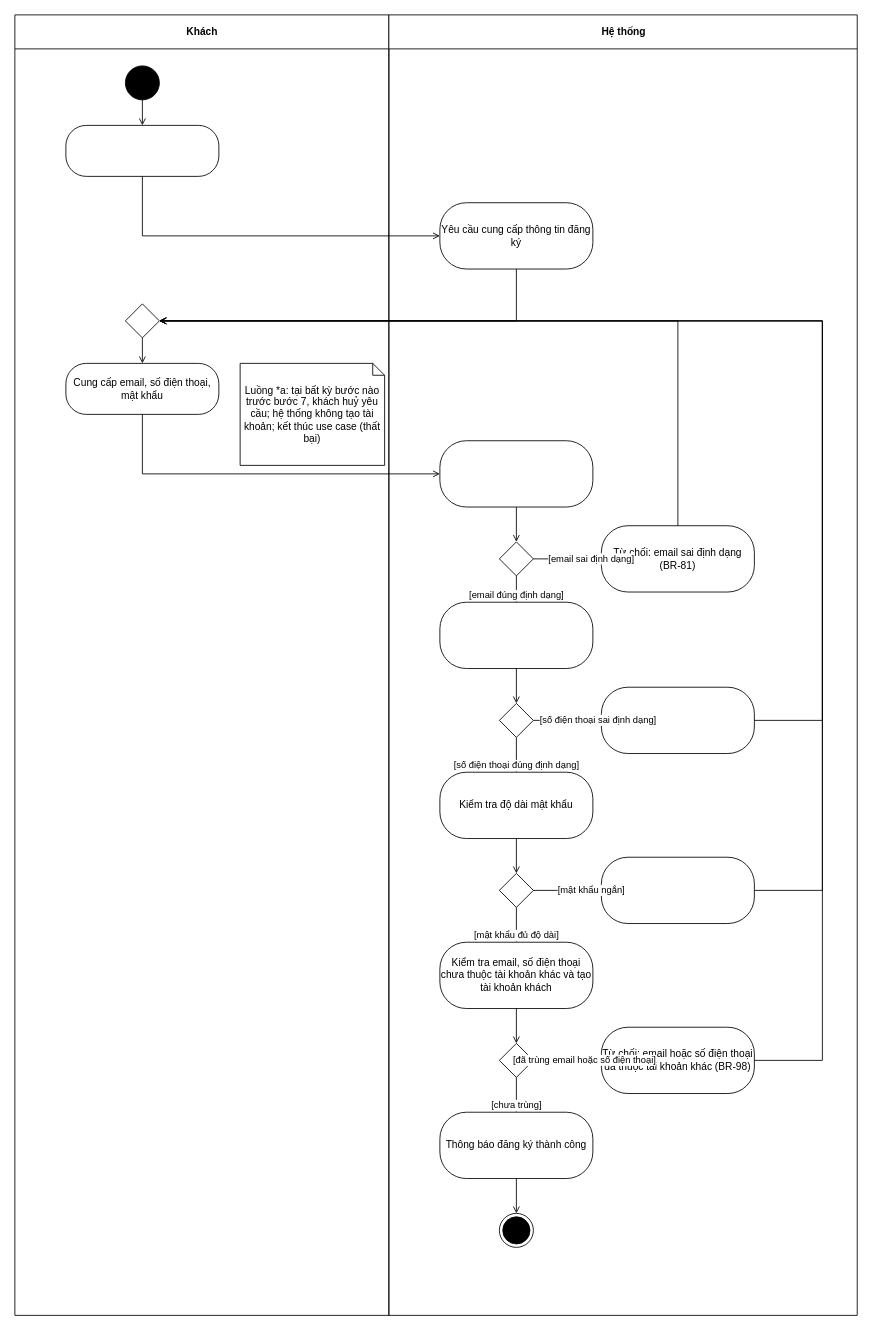
The diagram is 872 pixels wide and 1330 high, and some of its shapes have lost their labels. Here are the shapes that lost their labels. From the top down, the centre of each, then its label:
point (142, 150): Yêu cầu đăng ký tài khoản
point (516, 473): Kiểm tra định dạng email
point (516, 635): Kiểm tra định dạng số điện thoại
point (677, 720): Từ chối: số điện thoại sai định dạng (BR-82)
point (677, 890): Từ chối: mật khẩu ngắn hơn 8 ký tự (BR-99)
